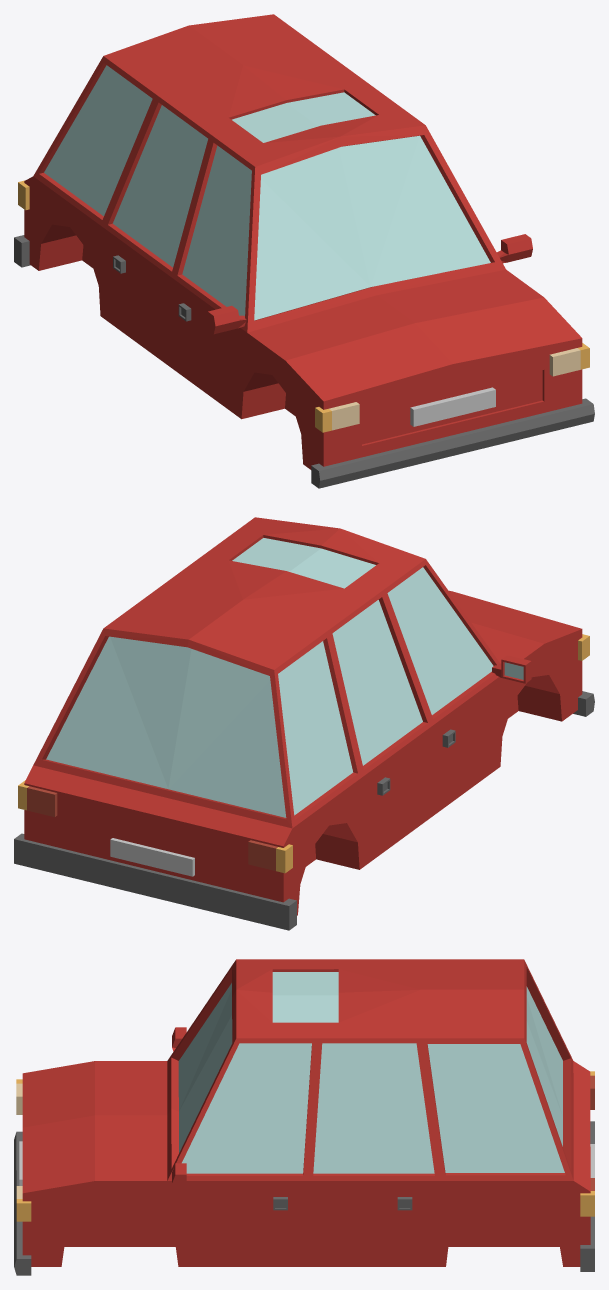
File: Car_03.fbx
3 renders of one model, top to bottom at view 1: azimuth 30°, elevation 25°; view 2: azimuth 150°, elevation 25°; view 3: azimuth 270°, elevation 25°, orthographic. The views are drawn at different scales.
Parts seen in each view (by area): view 1: Car_03; view 2: Car_03; view 3: Car_03.
Part boxes in pixels (<box>): Car_03: <box>14,14,594,488</box>; Car_03: <box>14,517,594,930</box>; Car_03: <box>14,959,594,1275</box>.
Bounding box in the file's own units: 198 × 139 × 330.
